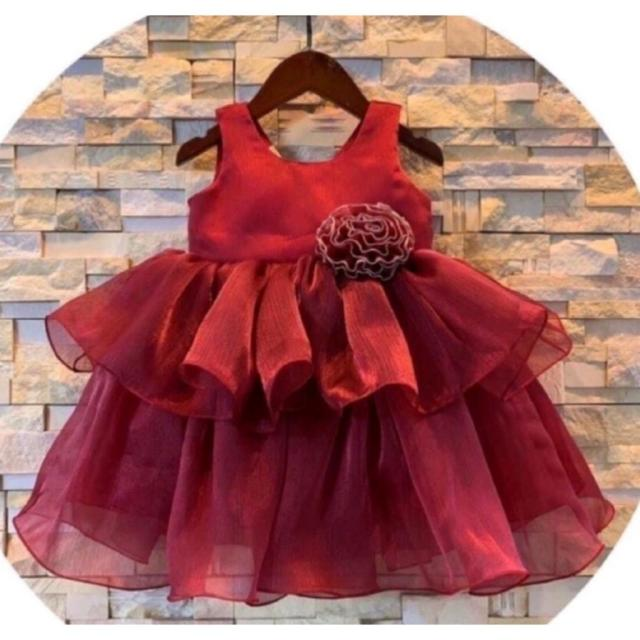clothes: (100, 98, 558, 610)
